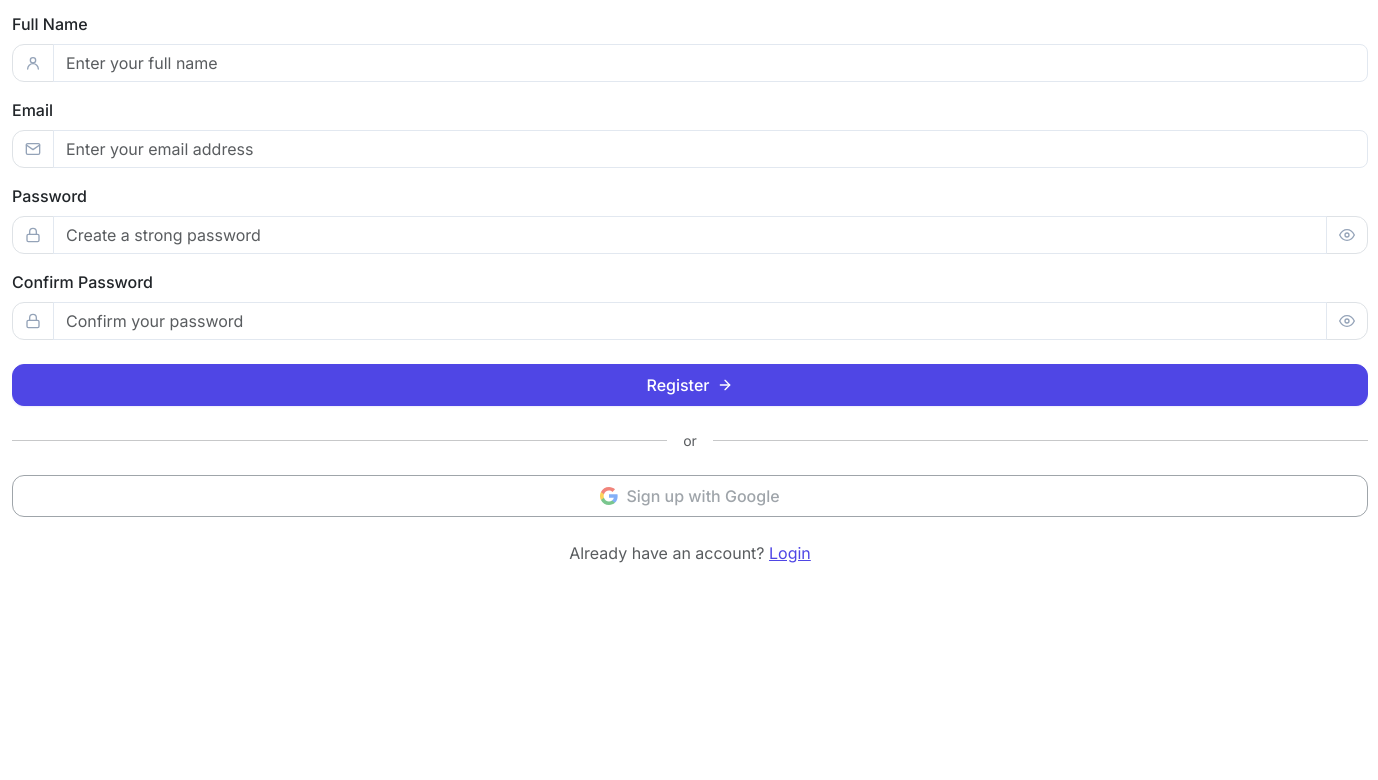
RegisterForm › shows field errors when submitting an empty form
The width and height of the screenshot is (1378, 780).
What coordinates should you click on to do the following:
click the button "Register"
I would click on:
 (690, 385)
Its box is 12,364 -> 1368,406.
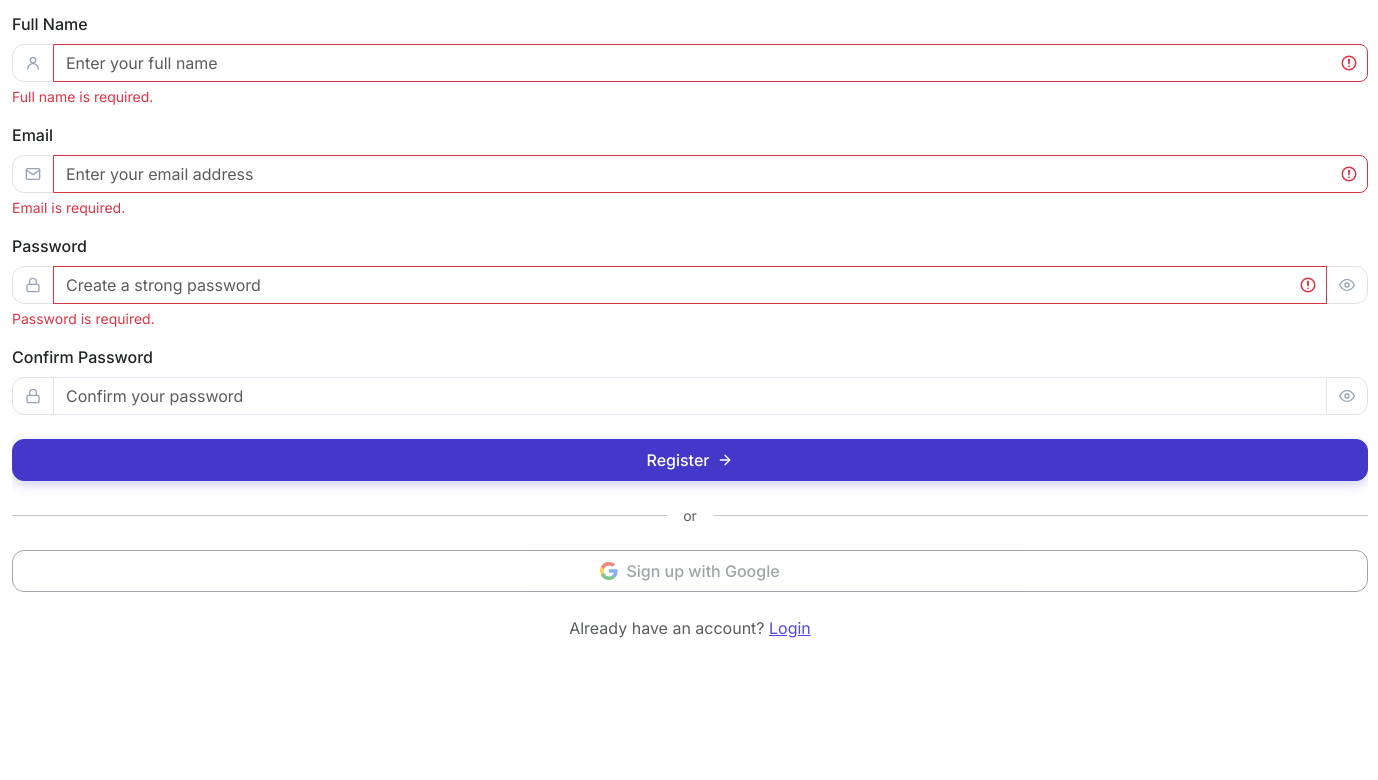
Now the text "Full name is required." is shown, box 12,88 -> 153,105
Now the text "Email is required." is shown, box 12,199 -> 125,216
Now the text "Password is required." is shown, box 12,310 -> 155,327
